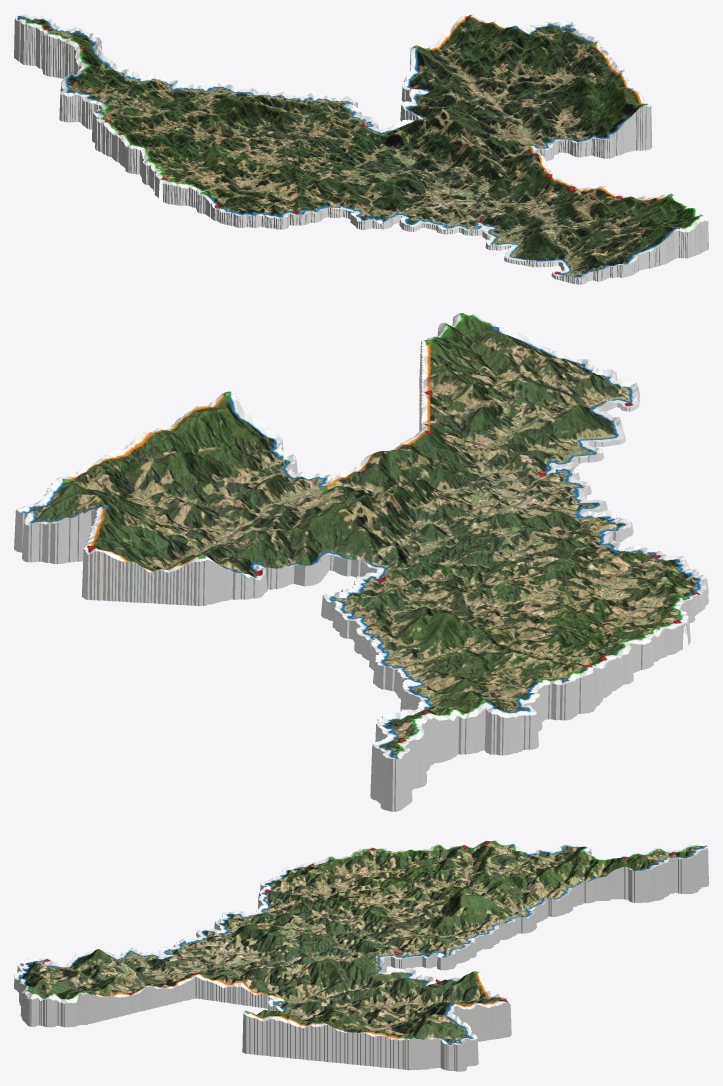
3 views of the same model, one above another, from view 1: azimuth 30°, elevation 25°; view 2: azimuth 150°, elevation 25°; view 3: azimuth 270°, elevation 25° (orthographic). The views are drawn at different scales.
Size of the model in its own units: 1 by 0.0913 by 1.42.
1 material, 1 textured.
